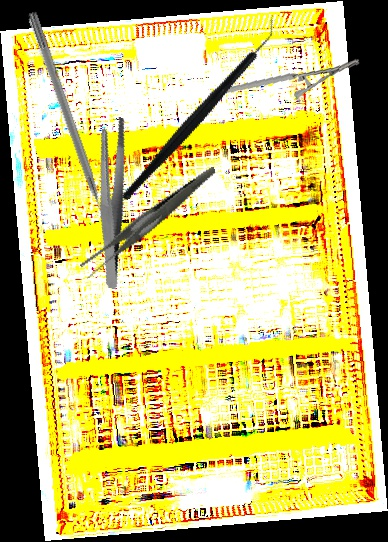Chopper: (80, 14, 319, 201)
Dressing Forceps: (64, 166, 235, 280), (61, 113, 162, 290)
Needle Holder: (209, 41, 362, 113)
Pusher: (24, 10, 114, 237)
